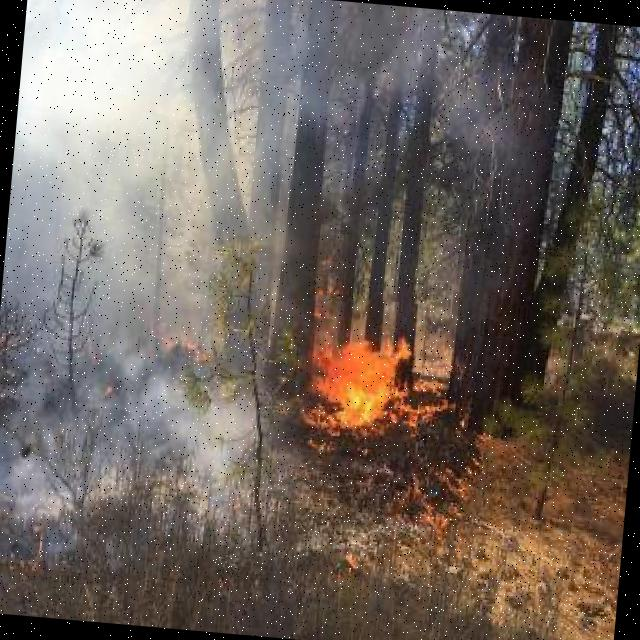fire: (269, 292, 427, 448)
